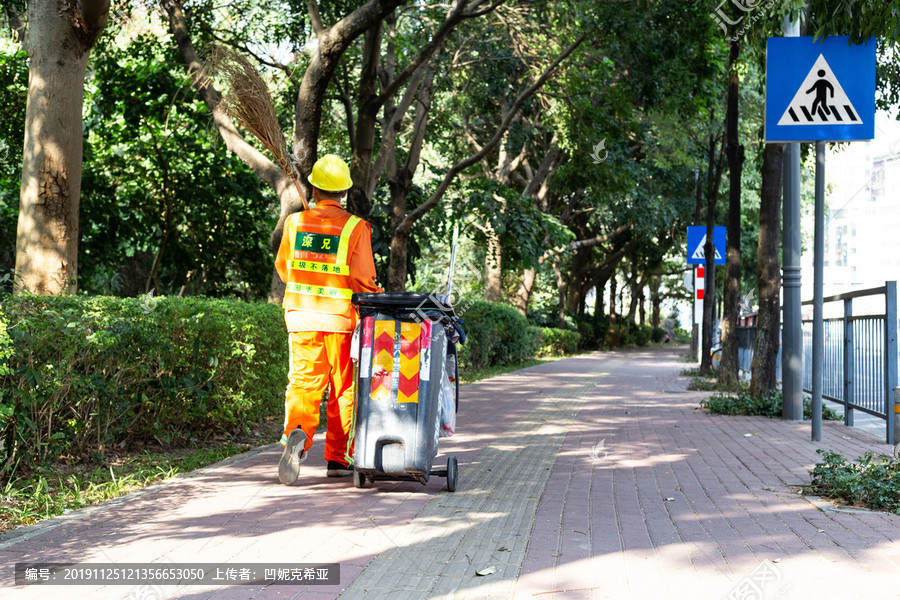safetyhat: (259, 133, 399, 430)
